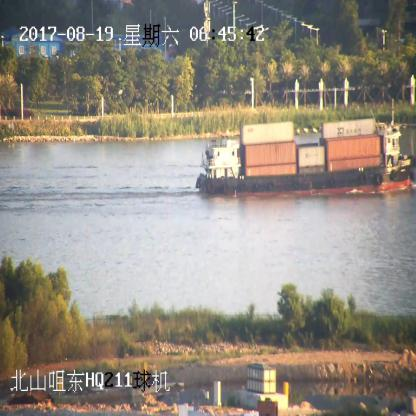Container Ship: (196, 114, 413, 195)
